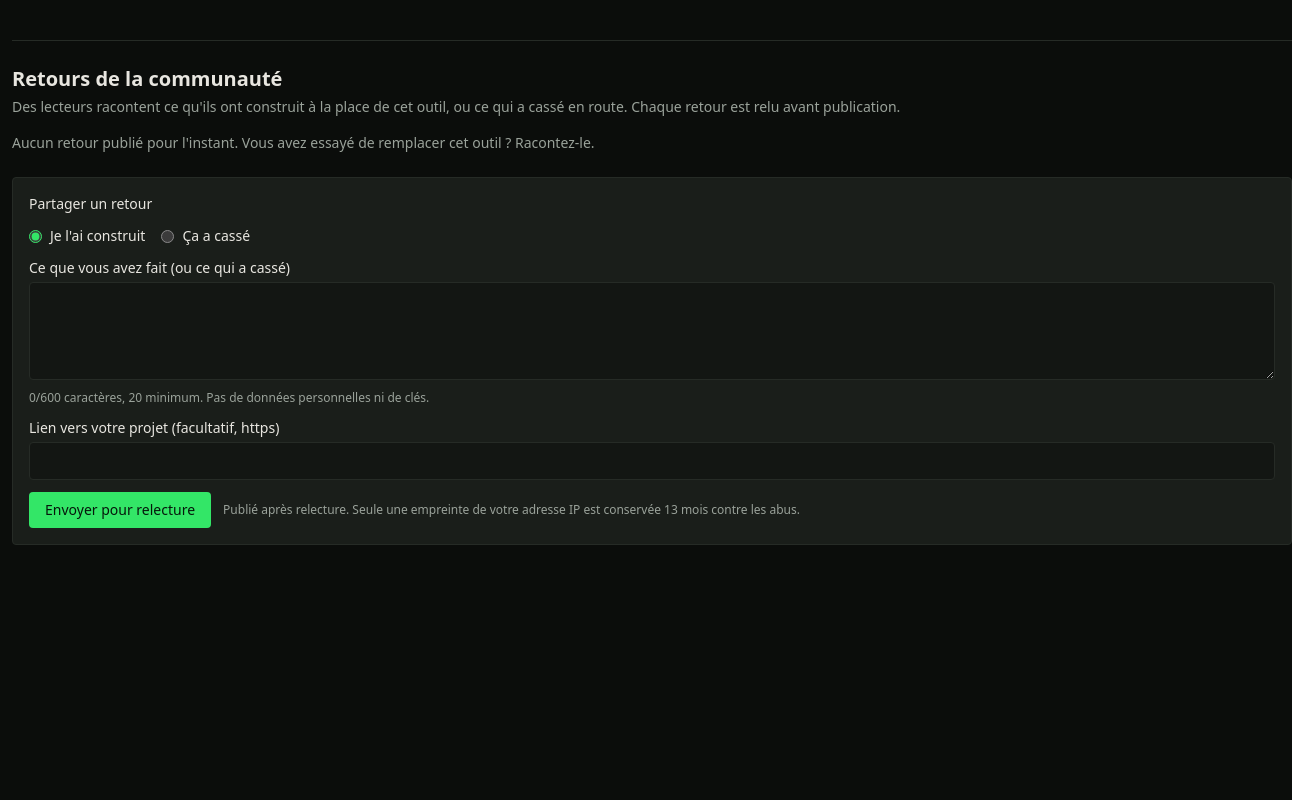
Test: RetoursFiche › traduit l’erreur renvoyée par le serveur
Type "Un texte suffisamment long pour être envoyé." into the text box labelled "Ce que vous avez fait (ou ce qui a cassé)" at (652, 331), box top-left (29, 282), bottom-right (1275, 380)
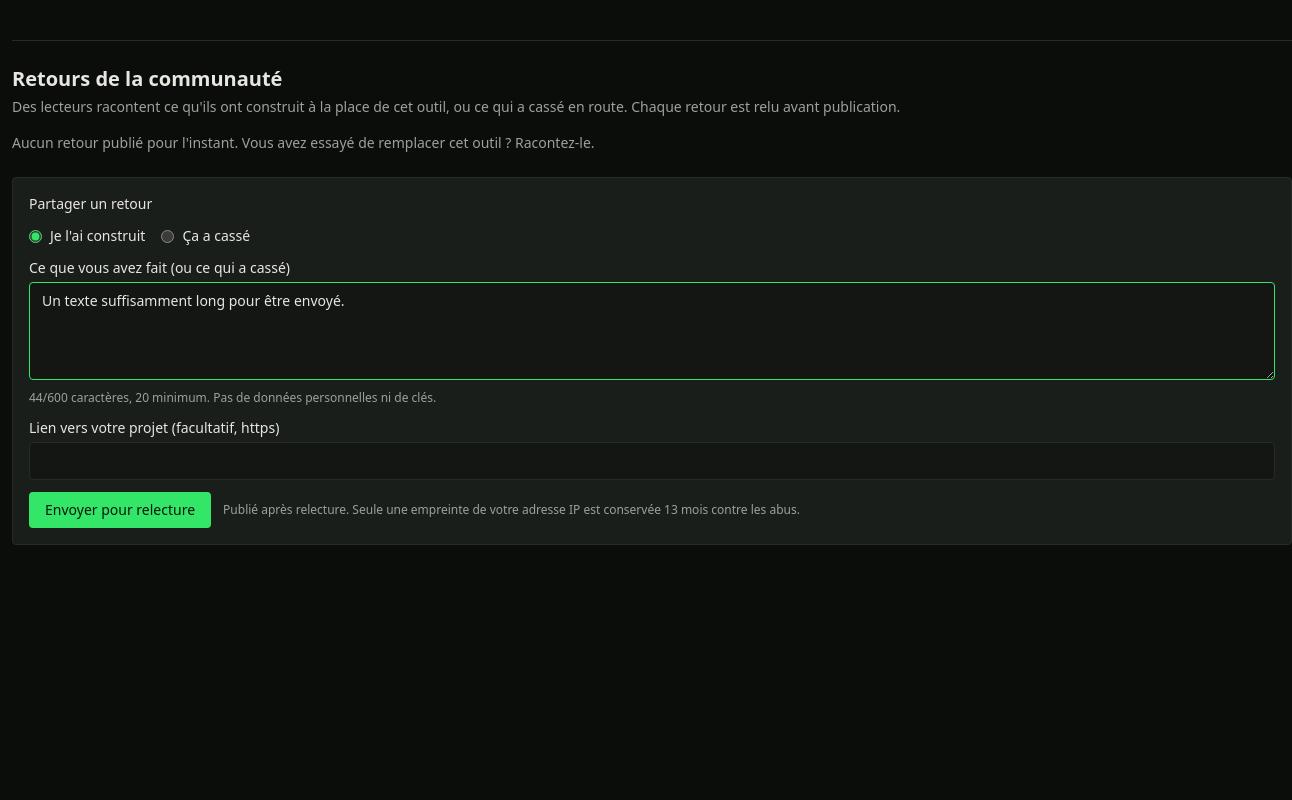
Click the button "Envoyer pour relecture" at (120, 510), box top-left (29, 492), bottom-right (211, 528)
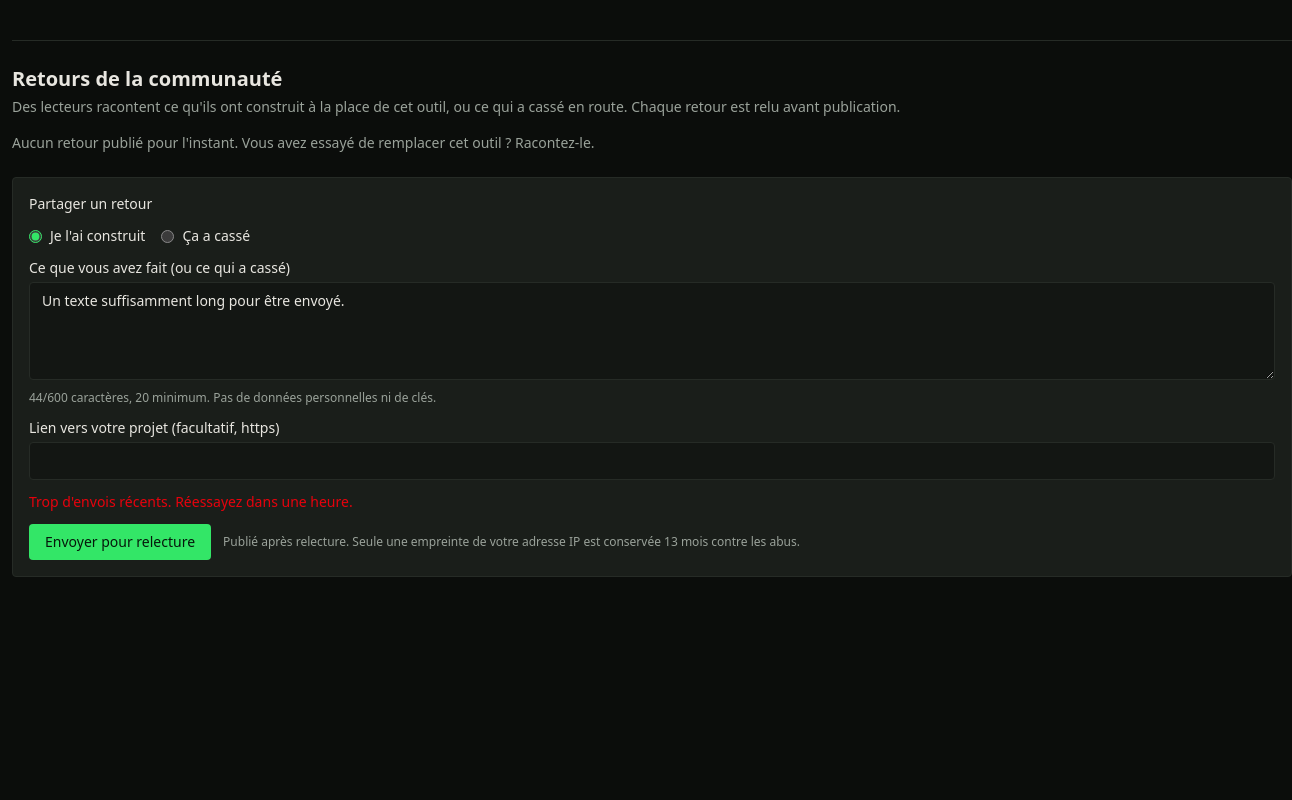
Expected: the message shows "Trop d", top-left (29, 492), bottom-right (353, 511)
